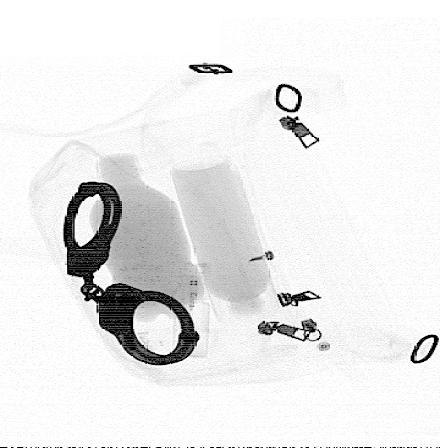HandCuffs: (62, 179, 201, 368)
